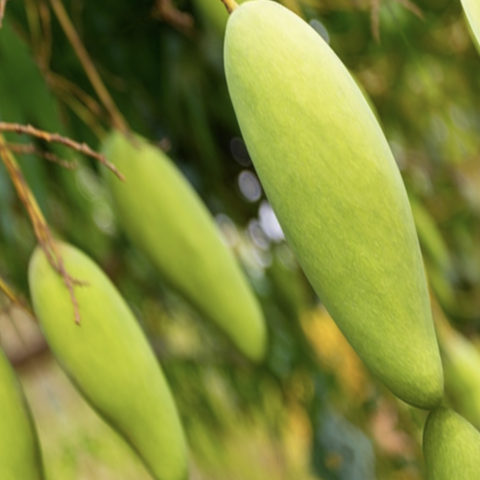mango: (155, 0, 480, 443), (66, 94, 303, 412), (0, 211, 224, 480)
